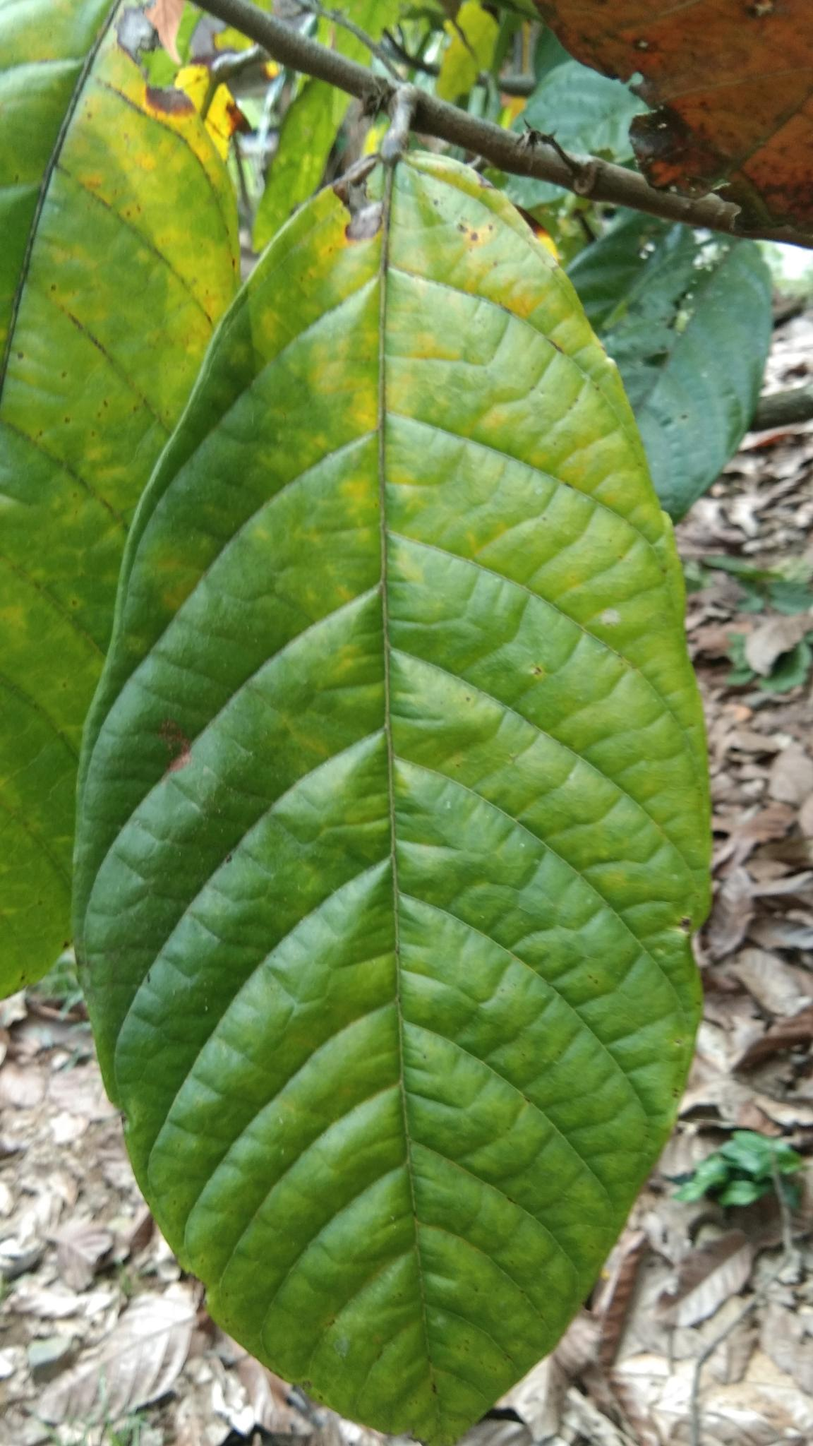Fosforo: (57, 112, 738, 1446), (0, 0, 240, 996)
